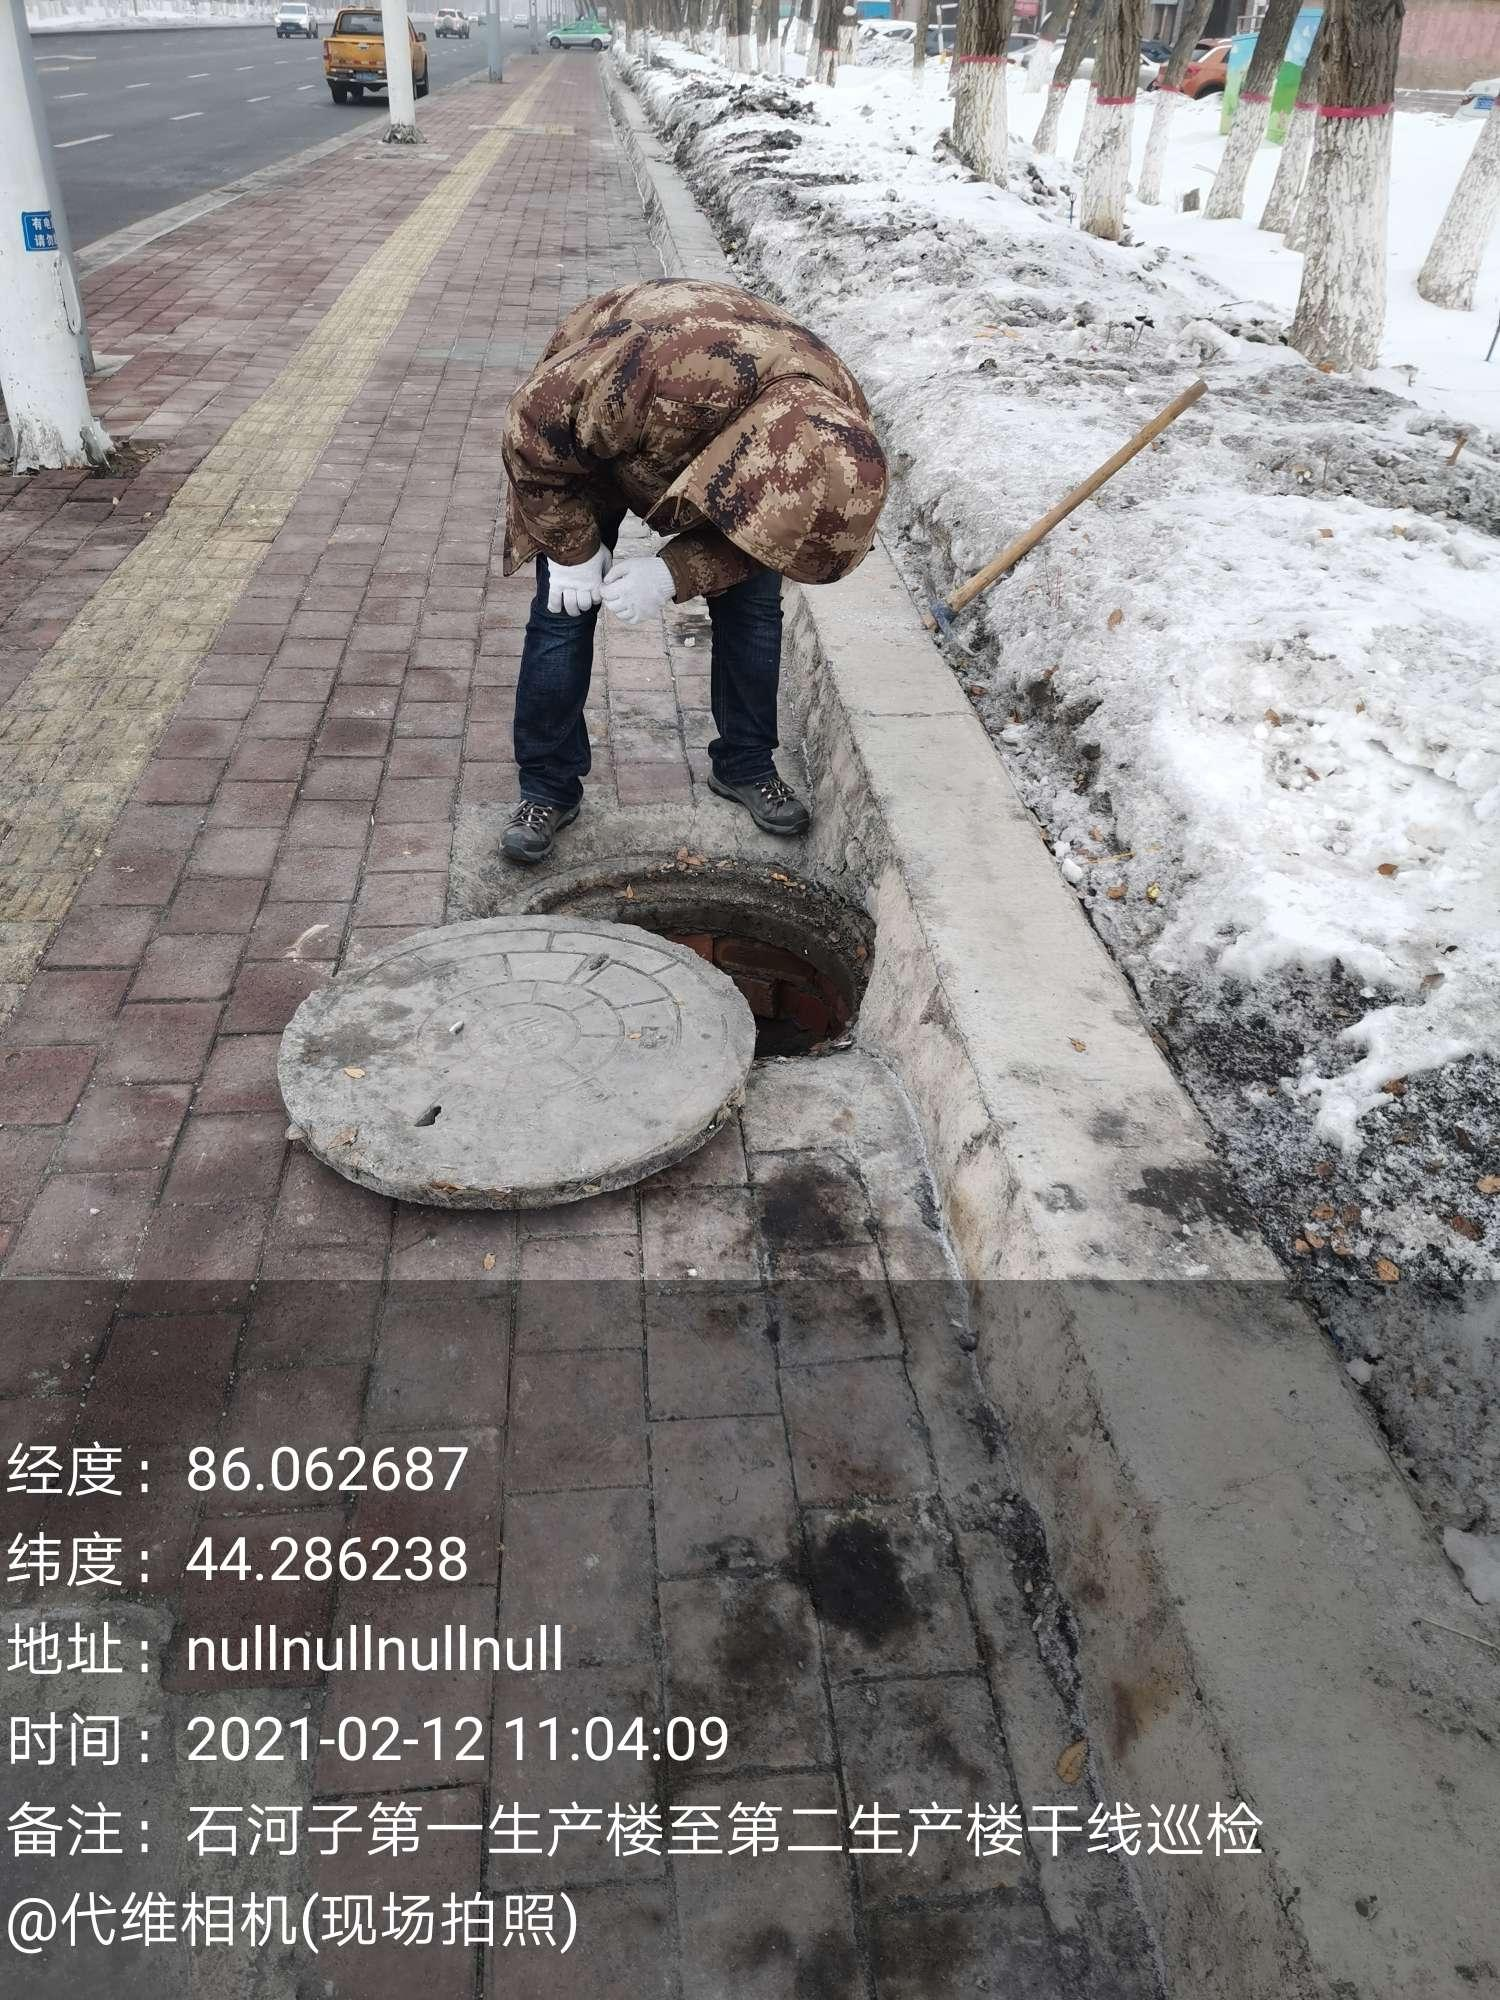wellcover: (268, 817, 963, 1214)
